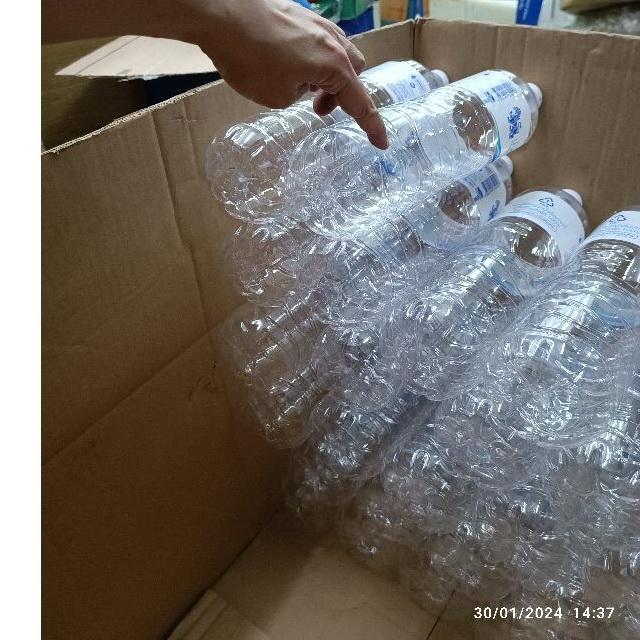PET Bottle: (163, 29, 640, 624)
